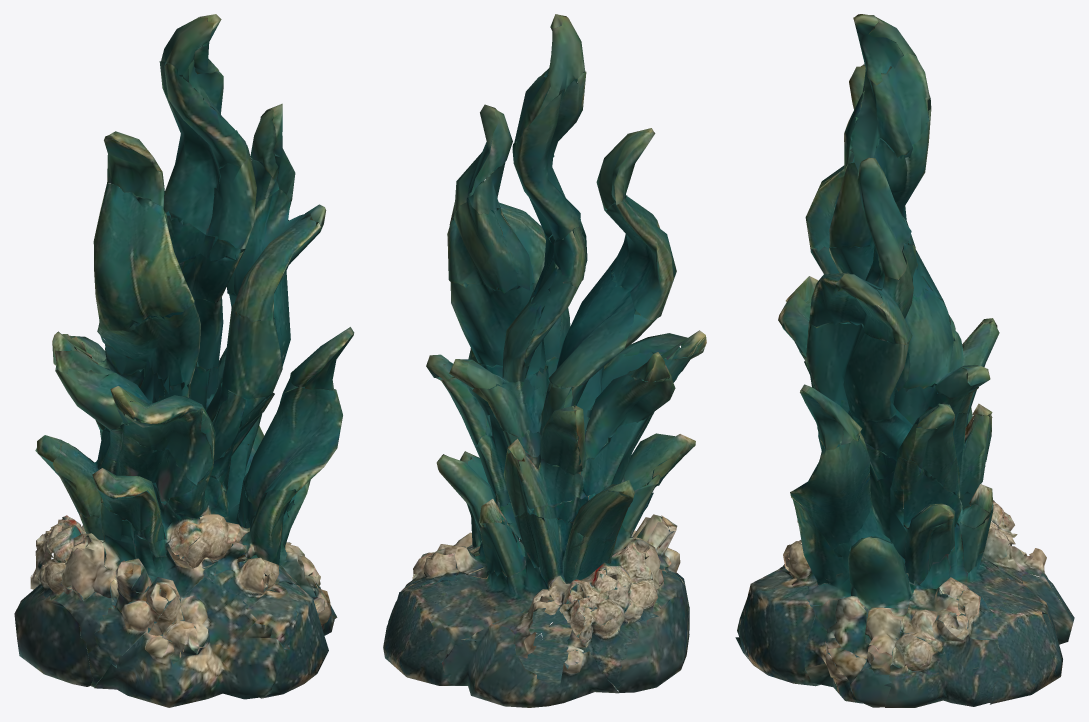
Rendered from prop_deep_kelp.glb.
3 views of the same model, side by side, from view 1: azimuth 30°, elevation 25°; view 2: azimuth 150°, elevation 25°; view 3: azimuth 270°, elevation 25° (orthographic). The views are drawn at different scales.
Visible parts, largest first — view 1: Mesh_0; view 2: Mesh_0; view 3: Mesh_0.
Part boxes in pixels (x1,y1,x2,y2): Mesh_0: [14, 14, 354, 707]; Mesh_0: [383, 14, 706, 707]; Mesh_0: [735, 14, 1074, 707].
Bounding box in the file's own units: 0.4287 × 0.942 × 0.4572.
1 material, 1 textured.
